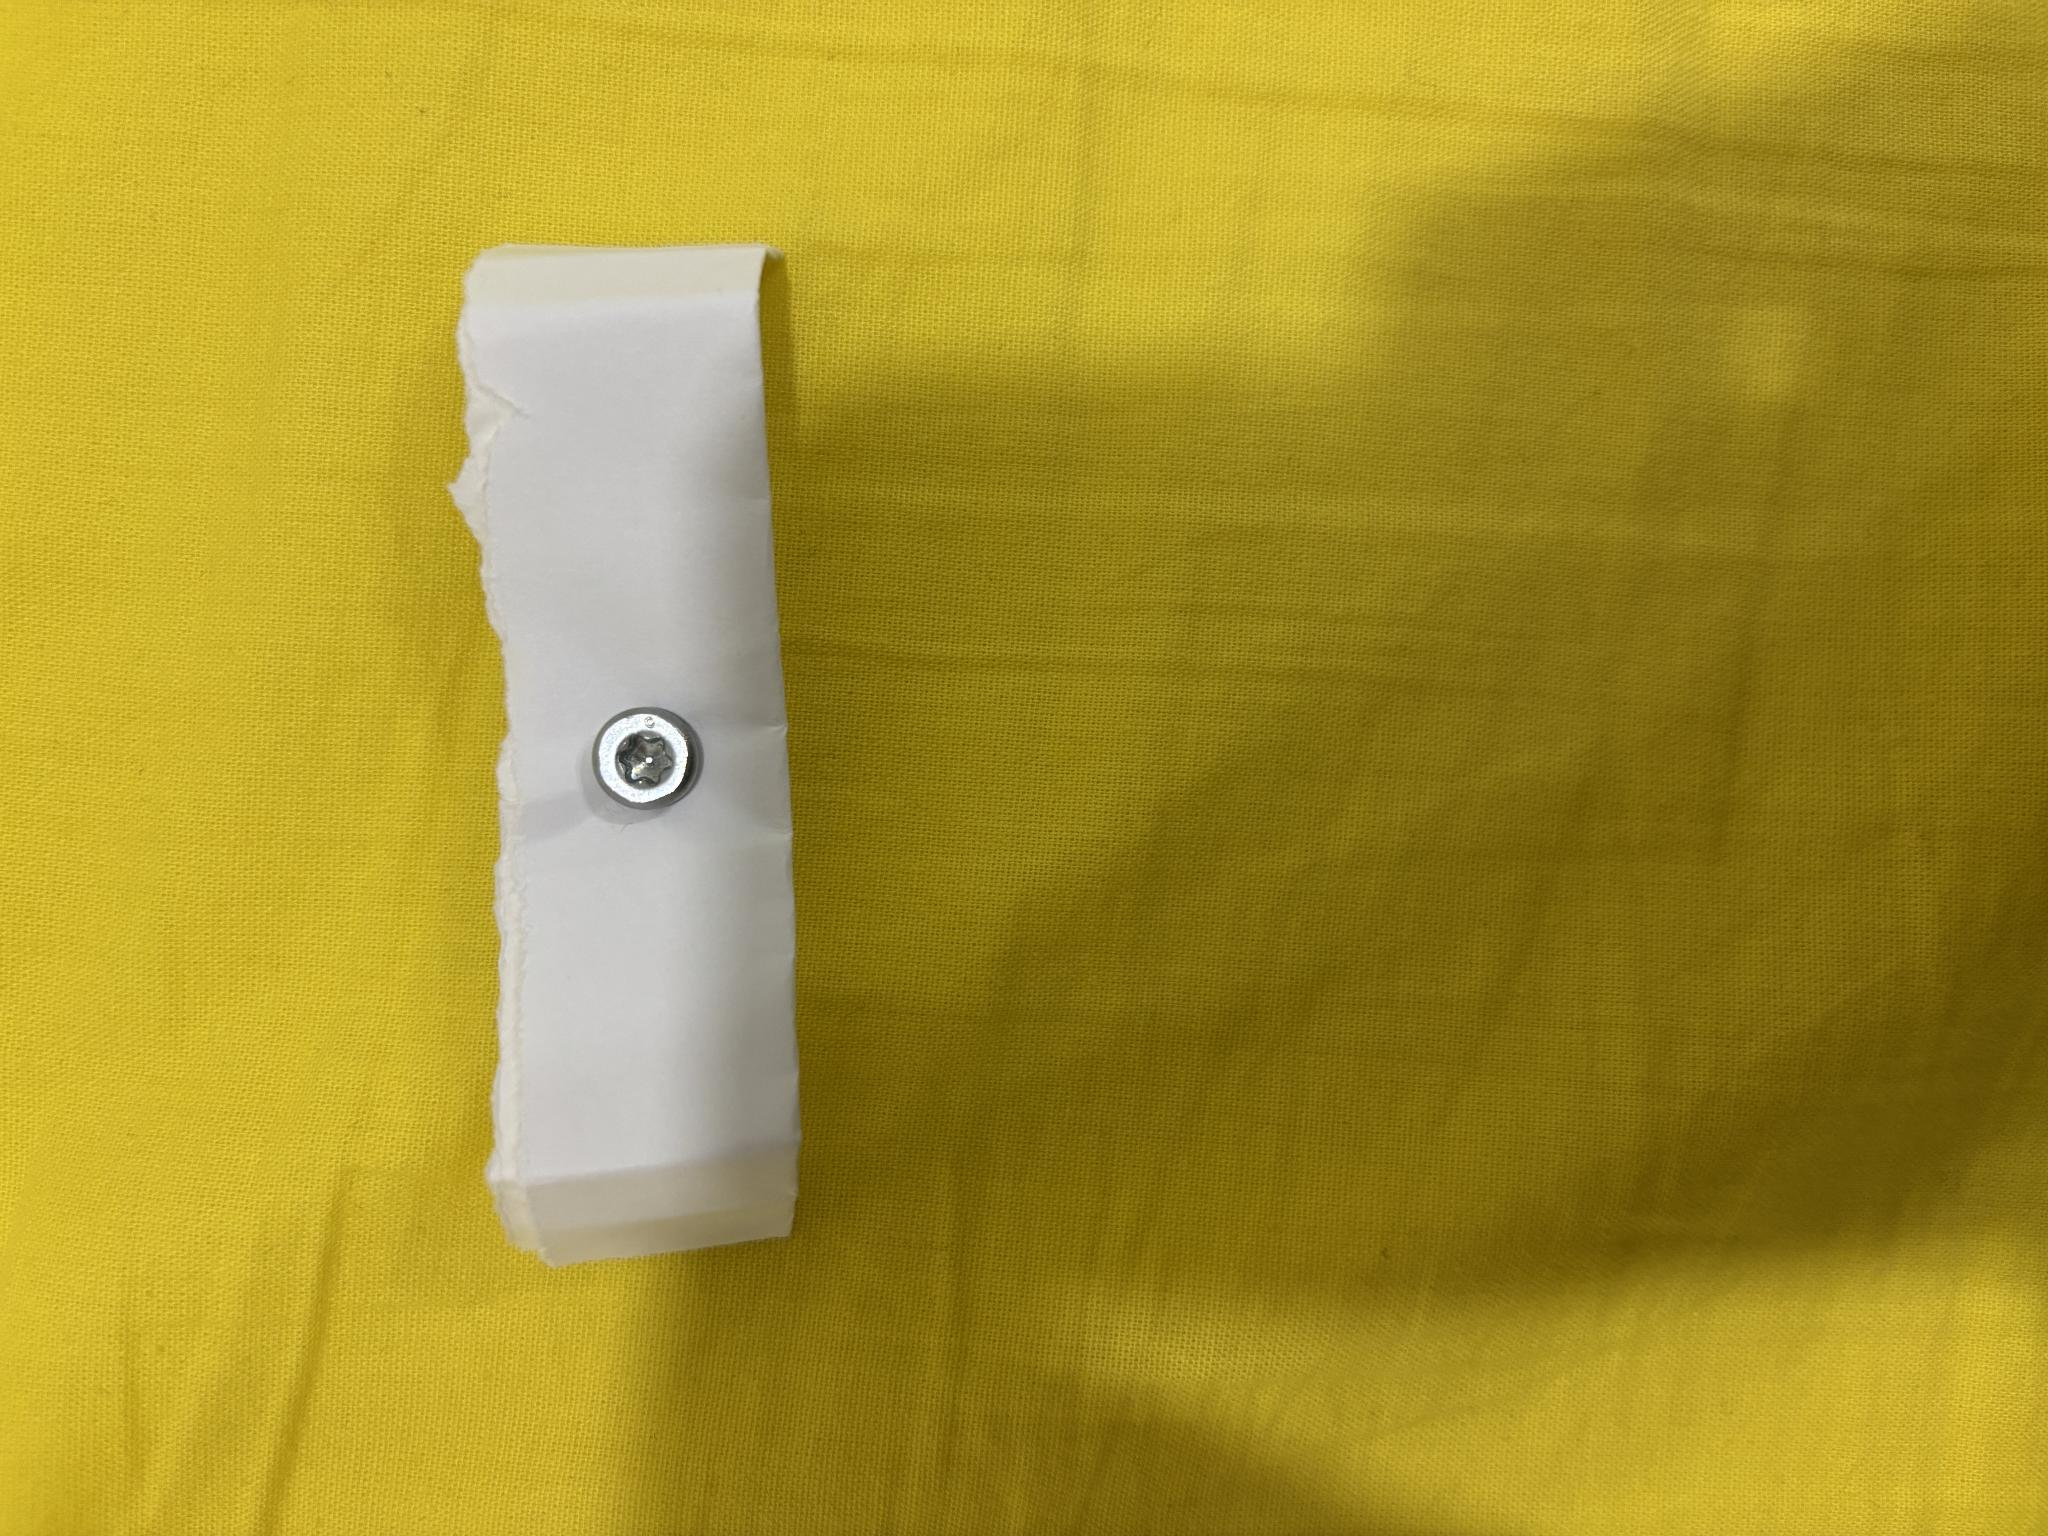H: (726, 592, 827, 702)
